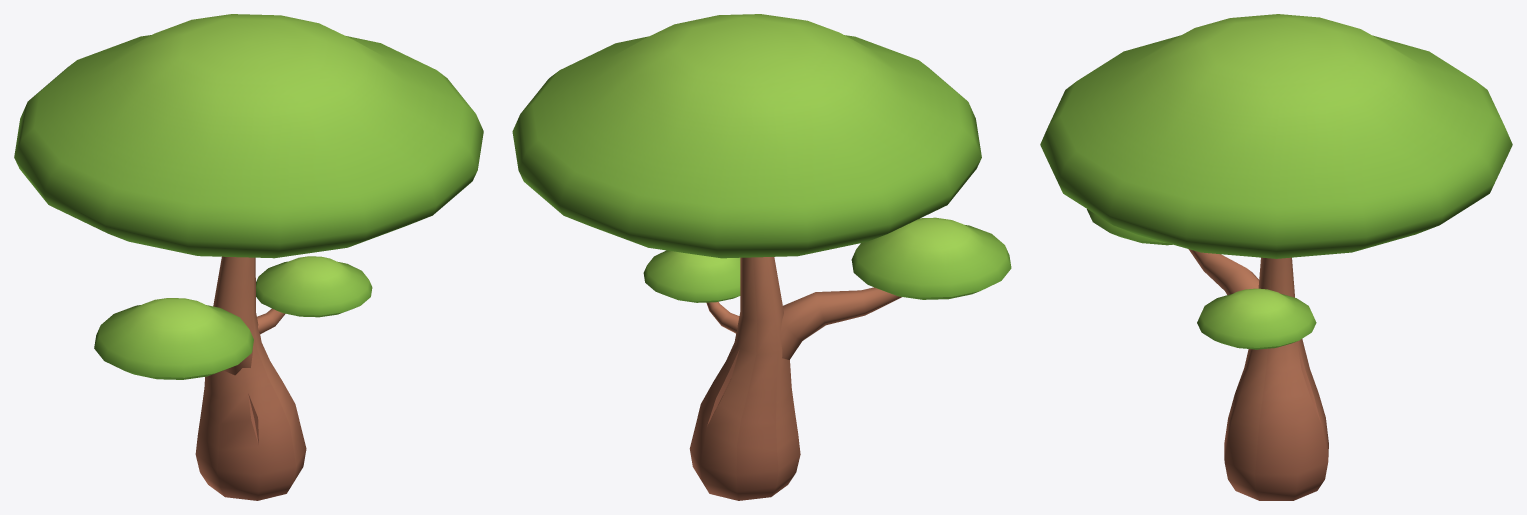
File: Tree_3_B_Color3.fbx
The picture shows the model from 3 angles, left to right: view 1: azimuth 30°, elevation 25°; view 2: azimuth 150°, elevation 25°; view 3: azimuth 270°, elevation 25°; orthographic projection.
Visible parts, largest first — view 1: Tree_3_B_Color3; view 2: Tree_3_B_Color3; view 3: Tree_3_B_Color3.
Part boxes in pixels (x1,y1,x2,y2): Tree_3_B_Color3: (14, 14, 483, 500); Tree_3_B_Color3: (512, 14, 1011, 500); Tree_3_B_Color3: (1040, 14, 1512, 500).
Size of the model in its own units: 4.13 by 4.35 by 4.13.
